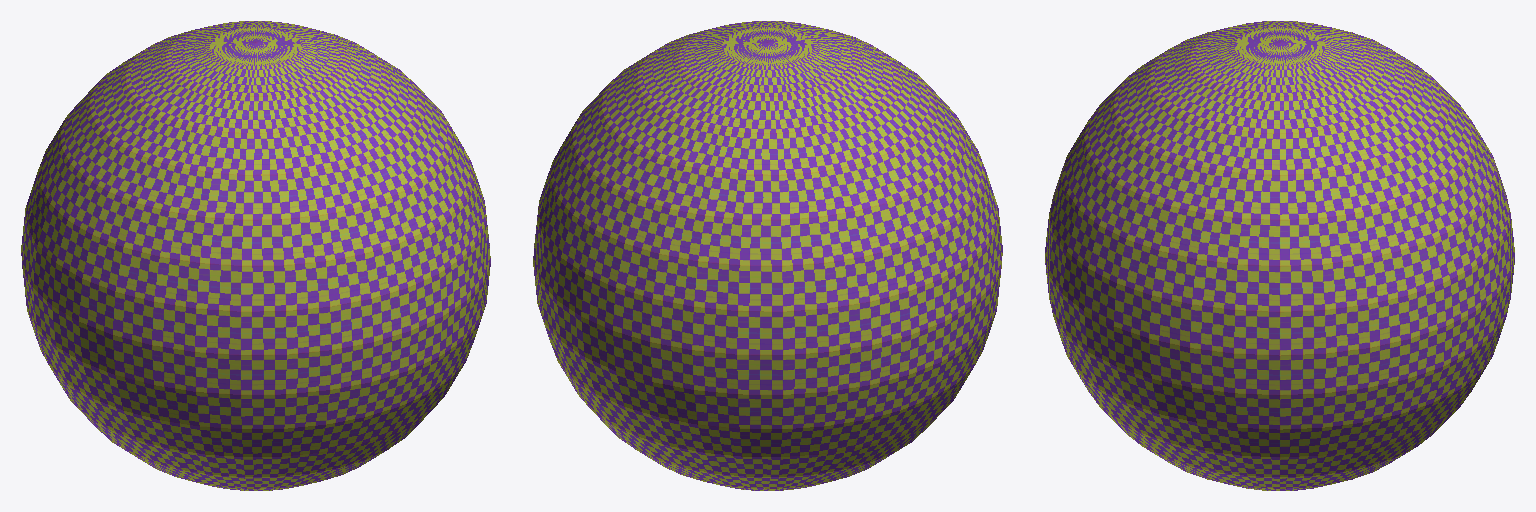
3 views of the same model, side by side, from view 1: azimuth 30°, elevation 25°; view 2: azimuth 150°, elevation 25°; view 3: azimuth 270°, elevation 25° (orthographic).
Visible parts, largest first — view 1: Sphere_Sphere.001; view 2: Sphere_Sphere.001; view 3: Sphere_Sphere.001.
Part boxes in pixels (bbox=[...]): Sphere_Sphere.001: bbox=[21, 21, 490, 490]; Sphere_Sphere.001: bbox=[533, 21, 1002, 490]; Sphere_Sphere.001: bbox=[1045, 21, 1514, 490].
Size of the model in its own units: 2 by 2 by 2.
1 materials, 1 textured.